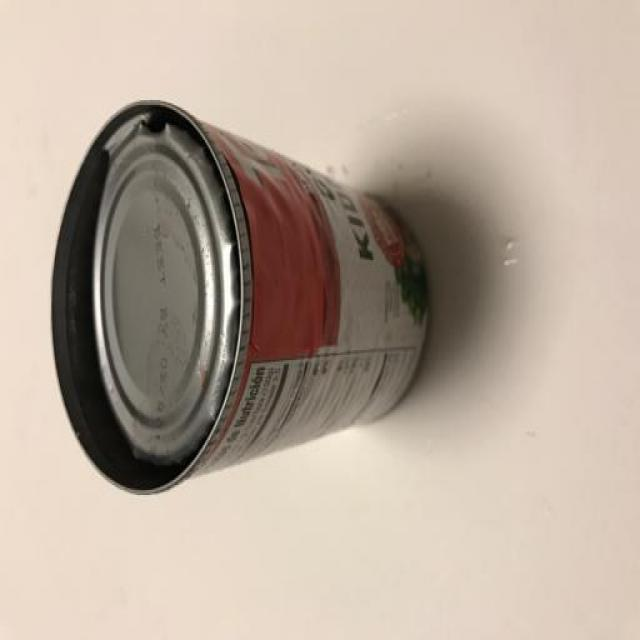metel: (79, 118, 420, 463)
